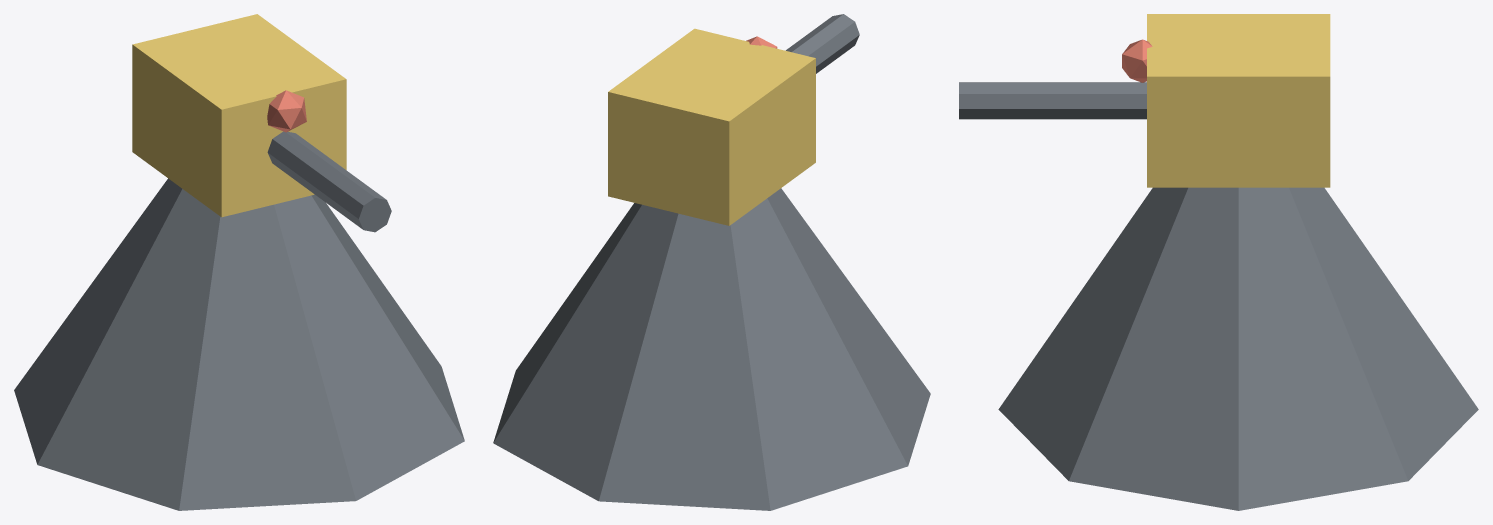
The model's file is SM_AutoTurret.fbx.
The picture shows the model from 3 angles, left to right: view 1: azimuth 30°, elevation 25°; view 2: azimuth 150°, elevation 25°; view 3: azimuth 270°, elevation 25°; orthographic projection. The views are drawn at different scales.
Visible parts, largest first — view 1: SM_AutoTurret; view 2: SM_AutoTurret; view 3: SM_AutoTurret.
Boxes of the visible parts, x1,y1,x2,y2 form: SM_AutoTurret: [14, 14, 464, 510]; SM_AutoTurret: [493, 14, 930, 510]; SM_AutoTurret: [959, 14, 1478, 510].
Size of the model in its own units: 11000 by 11900 by 9350.
